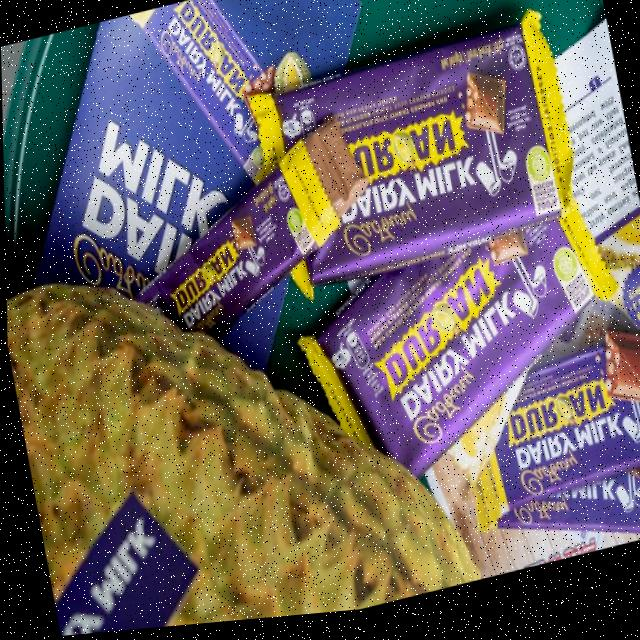cadbury: (244, 9, 585, 314), (278, 199, 613, 458), (120, 106, 387, 370), (445, 328, 640, 540)
